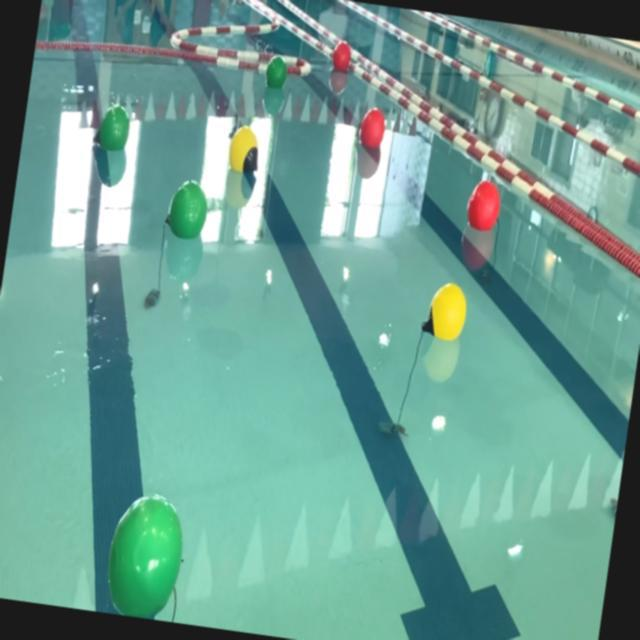buoy: (99, 488, 191, 622), (420, 278, 470, 344), (163, 176, 210, 244), (462, 178, 504, 236), (95, 102, 134, 156), (226, 126, 264, 178), (357, 106, 388, 152), (262, 54, 290, 92), (331, 39, 354, 73)
